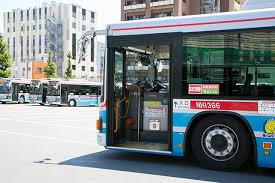entrance: (107, 36, 174, 153)
